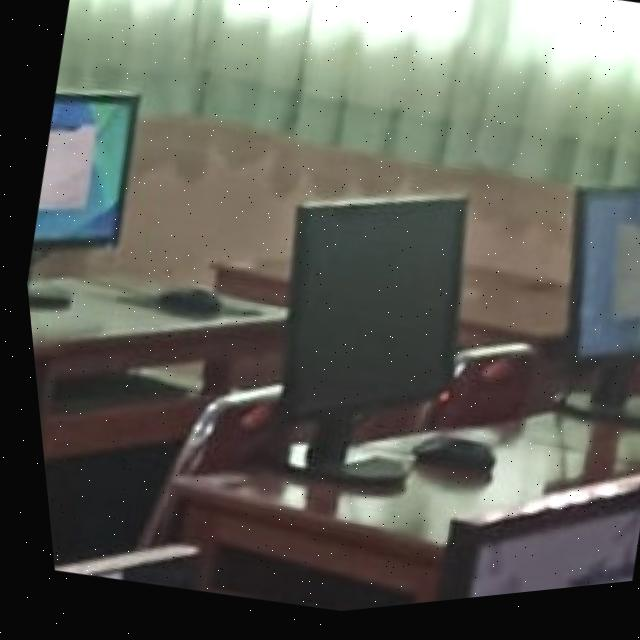offscreen: (270, 207, 460, 475)
onscreen: (31, 93, 134, 246), (564, 204, 640, 372)
